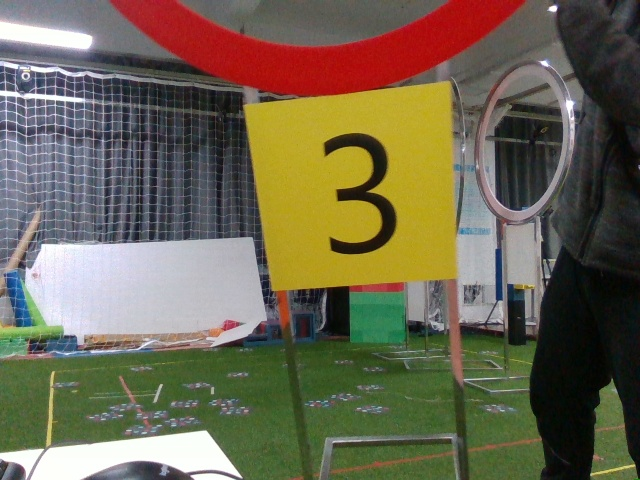target: (258, 101, 452, 280)
